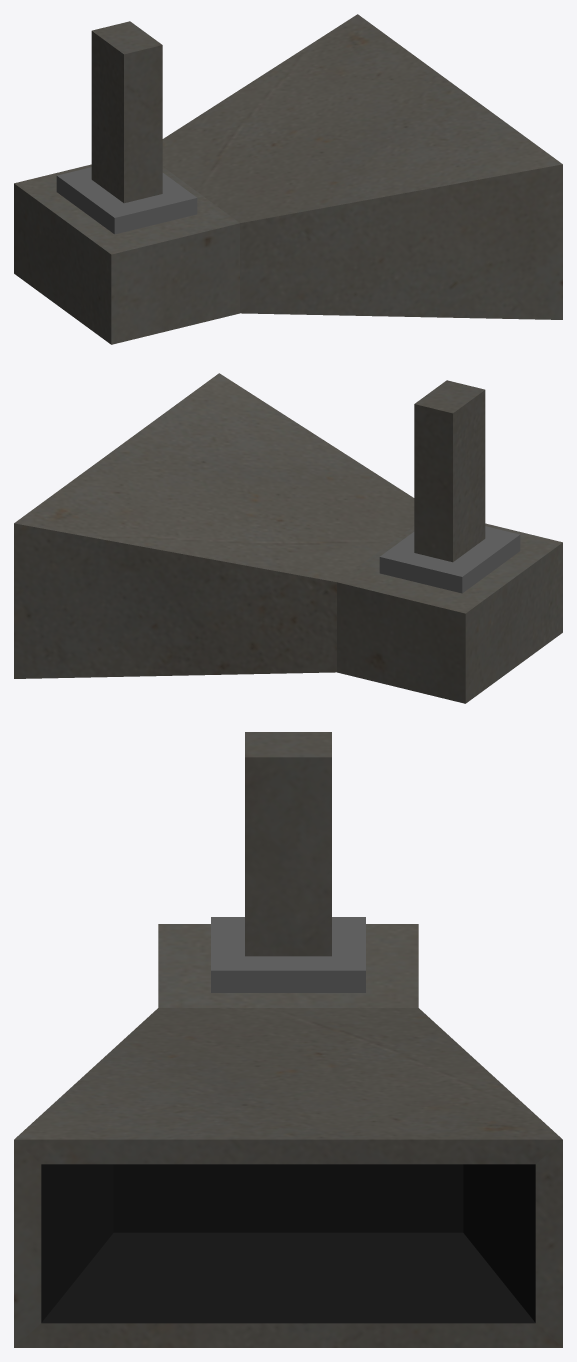
The model's file is Evil speaker.fbx.
The picture shows the model from 3 angles, top to bottom: view 1: azimuth 30°, elevation 25°; view 2: azimuth 150°, elevation 25°; view 3: azimuth 270°, elevation 25°; orthographic projection. The views are drawn at different scales.
Visible parts, largest first — view 1: Cube; view 2: Cube; view 3: Cube.
Part boxes in pixels (x1,y1,x2,y2): Cube: [14, 14, 562, 344]; Cube: [14, 373, 562, 703]; Cube: [14, 732, 562, 1347].
Size of the model in its own units: 179 by 124 by 160.
